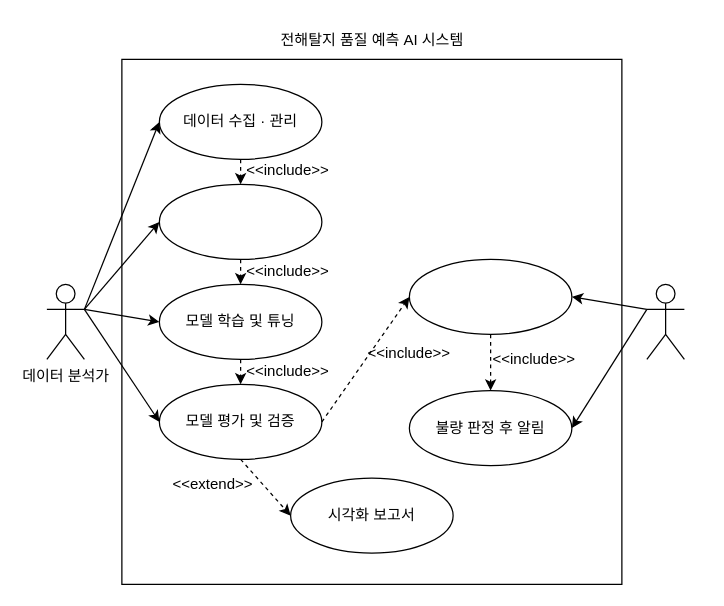
Image size: 724x606. Some labels were removed from this diagram. Here are the shapes that lost their labels. From the top down, the centre of each, then its label:
At (240,221): "데이터 전처리 및 EDA".
At (490,296): "품질 예측 수행".
At (665,321): "품질 관리자".
